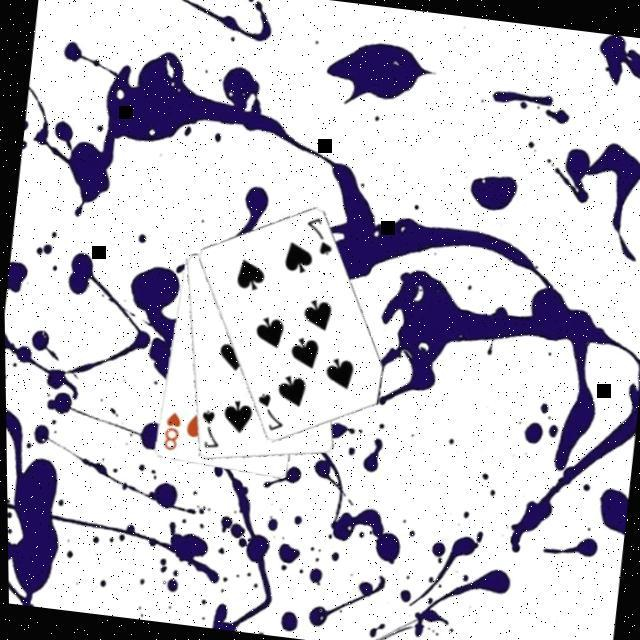7S: (247, 390, 287, 436), (296, 213, 336, 259), (190, 406, 222, 453)
8H: (154, 408, 182, 454)
